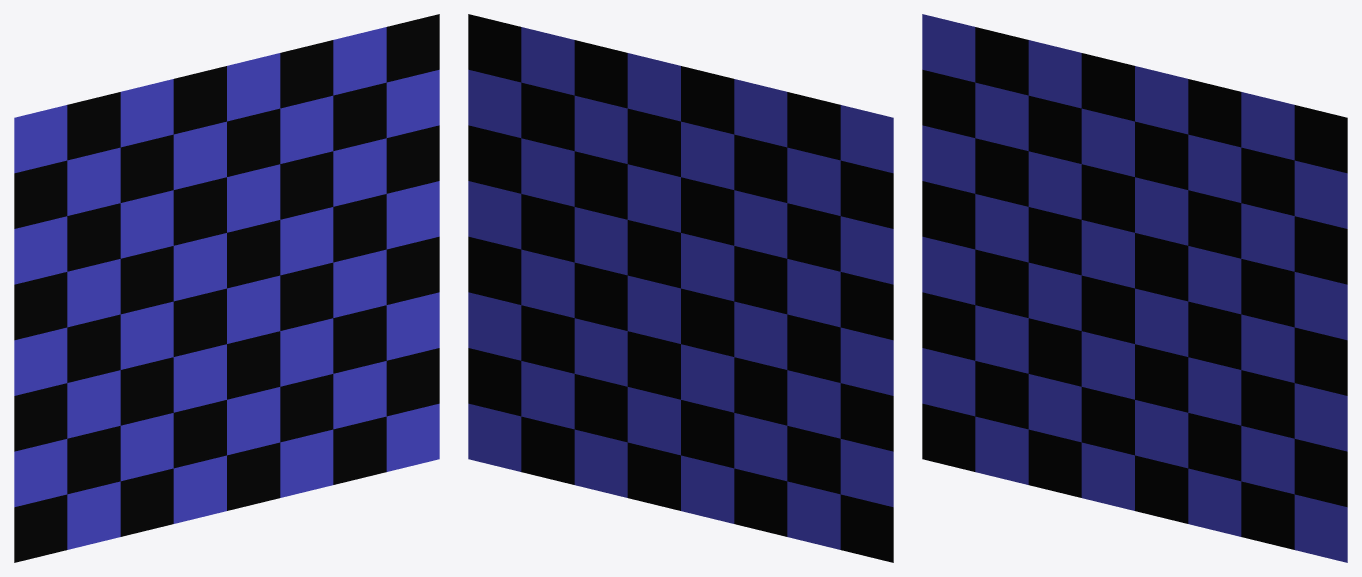
Rendered from 1_checker.obj.
3 views of the same model, side by side, from view 1: azimuth 30°, elevation 25°; view 2: azimuth 150°, elevation 25°; view 3: azimuth 330°, elevation 25° (orthographic).
Size of the model in its own units: 2 by 2 by 0.
